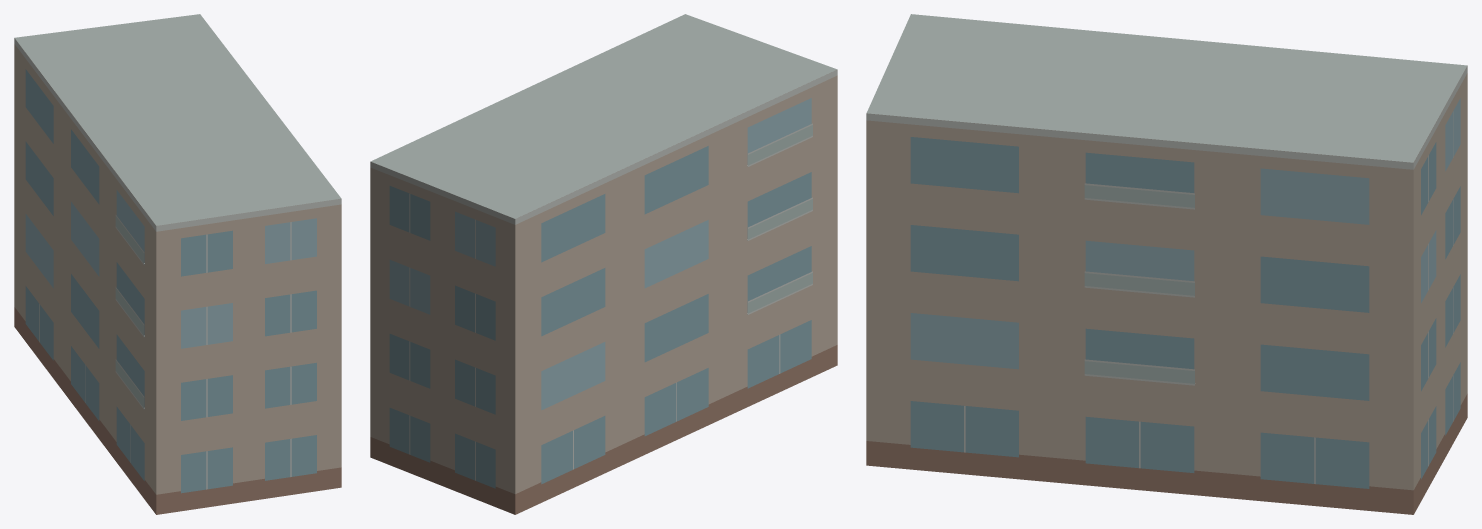
Rendered from survey-upis-32754770.glb.
3 views of the same model, side by side, from view 1: azimuth 30°, elevation 25°; view 2: azimuth 150°, elevation 25°; view 3: azimuth 270°, elevation 25° (orthographic). The views are drawn at different scales.
Parts seen in each view (by area): view 1: survey-upis-32754770.tmp; view 2: survey-upis-32754770.tmp; view 3: survey-upis-32754770.tmp.
Part boxes in pixels (bbox=[...]): survey-upis-32754770.tmp: bbox=[14, 14, 341, 514]; survey-upis-32754770.tmp: bbox=[370, 14, 837, 514]; survey-upis-32754770.tmp: bbox=[866, 14, 1467, 514].
Size of the model in its own units: 10.99 by 12.12 by 18.76.
